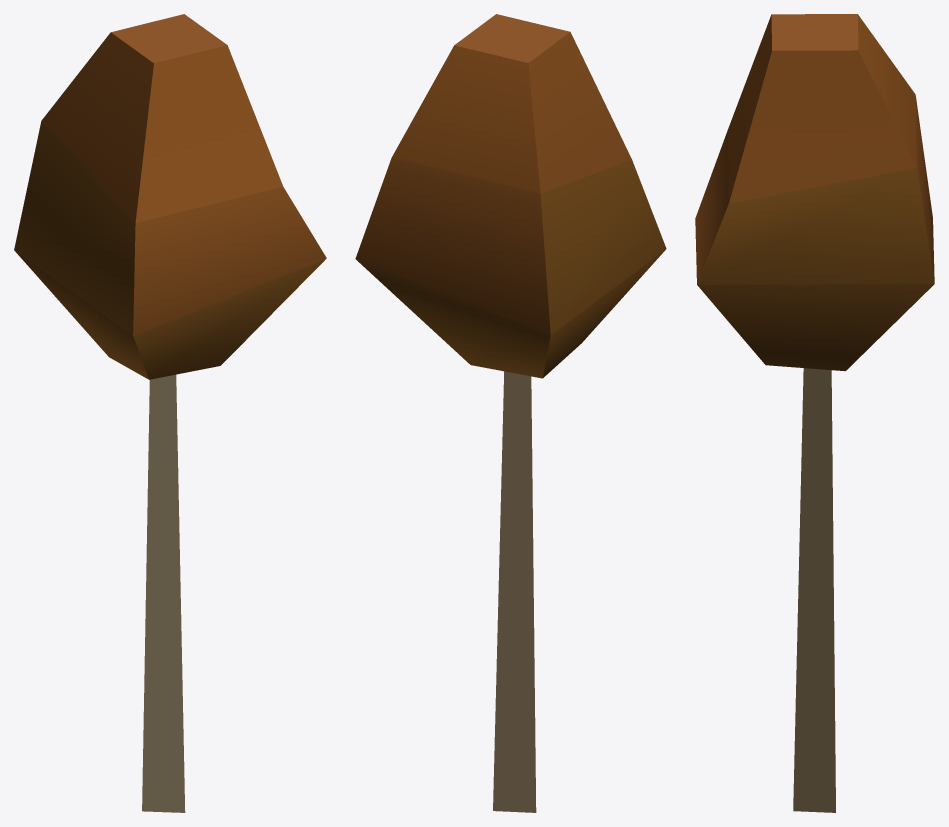
Rendered from SF_Env_Tree_017.fbx.
3 views of the same model, side by side, from view 1: azimuth 30°, elevation 25°; view 2: azimuth 150°, elevation 25°; view 3: azimuth 270°, elevation 25° (orthographic).
Parts seen in each view (by area): view 1: SF_Env_Tree_Tall_03; view 2: SF_Env_Tree_Tall_03; view 3: SF_Env_Tree_Tall_03.
Boxes of the visible parts, <box> form: SF_Env_Tree_Tall_03: <box>14,14,326,812</box>; SF_Env_Tree_Tall_03: <box>355,14,666,812</box>; SF_Env_Tree_Tall_03: <box>695,14,934,812</box>.
Bounding box in the file's own units: 2.35 × 8.77 × 2.45.
